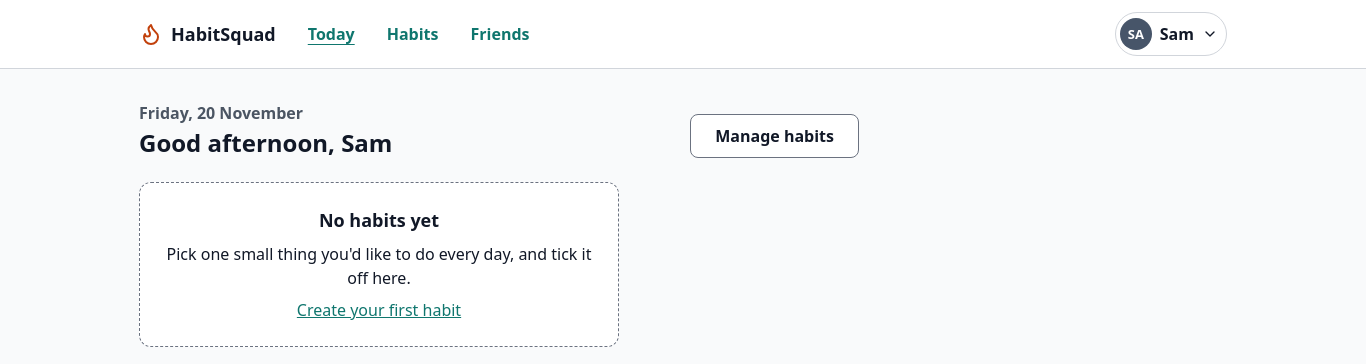
Test: AccountMenu (header) › Esc closes it and puts focus back on the button
Click the button with aria-label "Account menu for". click: (1171, 34)
box: [1115,12,1227,56]
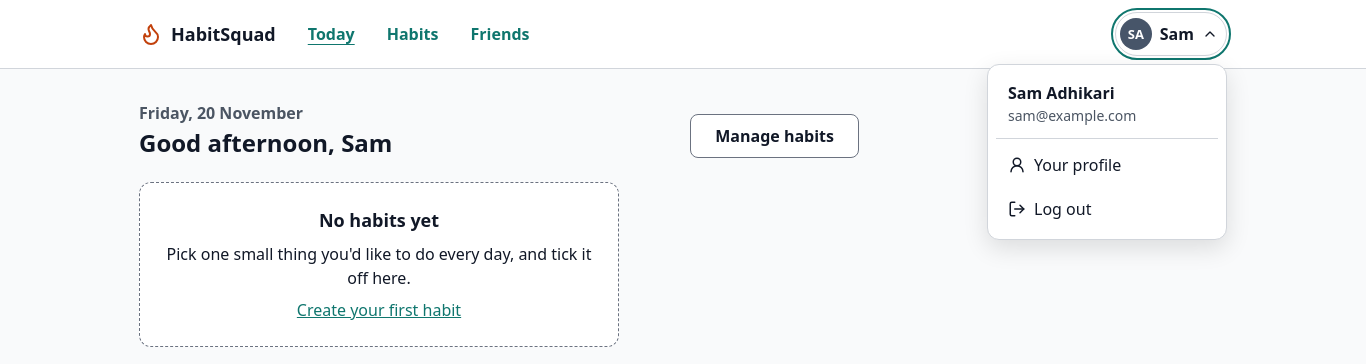
Press Tab
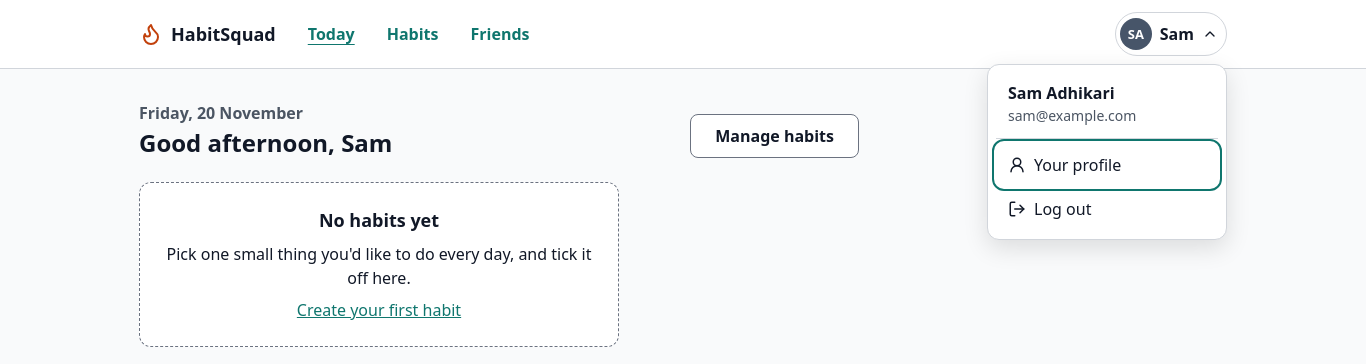
Press Escape
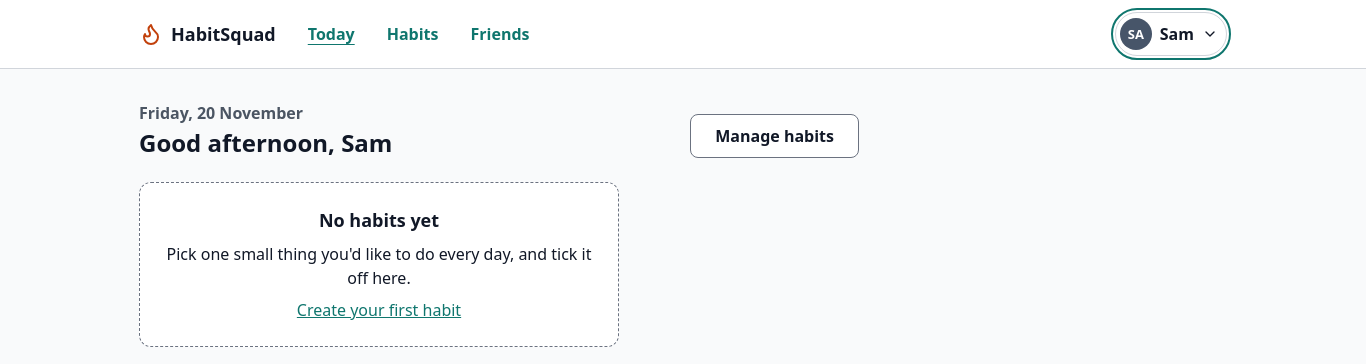
Check: the button with aria-label "Account menu for" is collapsed, box [1115,12,1227,56]
